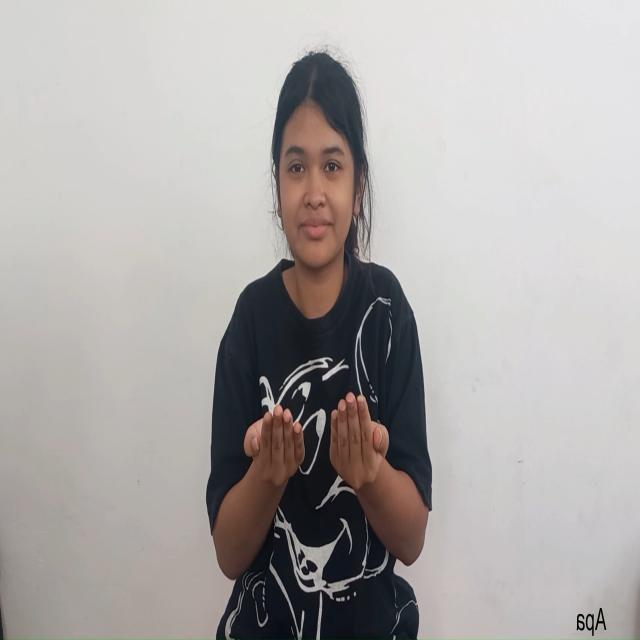Apa -BISINDO-: (205, 254, 429, 596)
